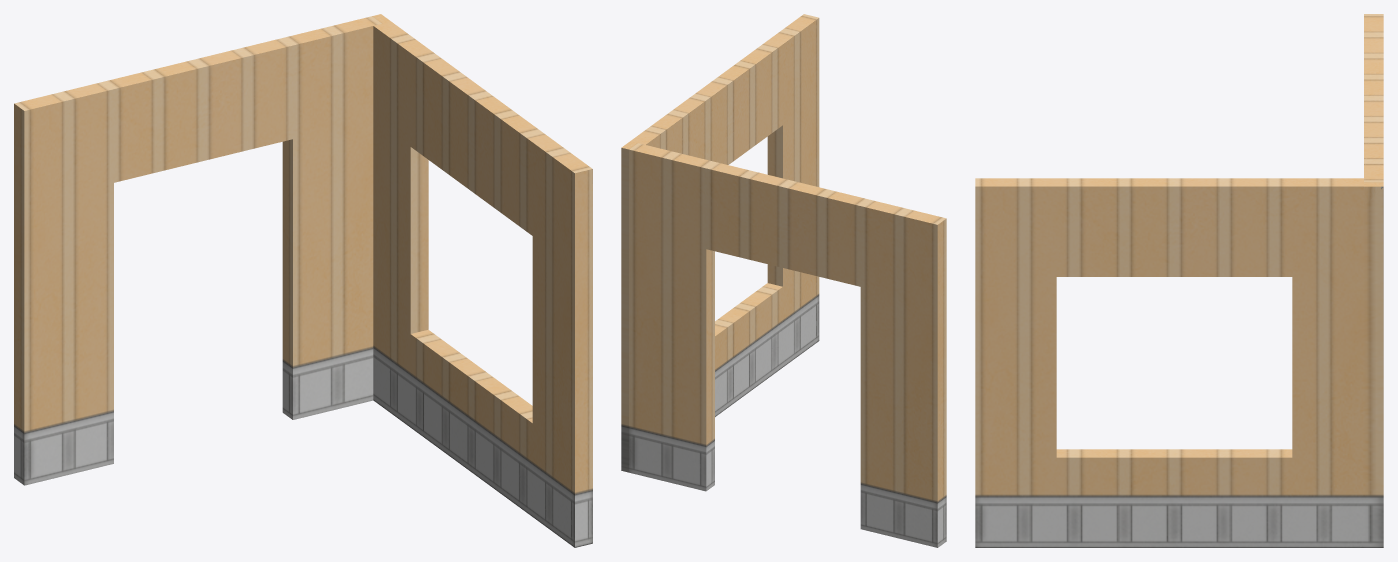
The model's file is Wall_8_Corner_E.fbx.
3 views of the same model, side by side, from view 1: azimuth 30°, elevation 25°; view 2: azimuth 150°, elevation 25°; view 3: azimuth 270°, elevation 25° (orthographic). The views are drawn at different scales.
Visible parts, largest first — view 1: polySurface62; view 2: polySurface62; view 3: polySurface62.
Boxes of the visible parts, x1,y1,x2,y2 form: polySurface62: [14, 14, 592, 547]; polySurface62: [621, 14, 946, 547]; polySurface62: [975, 14, 1383, 547].
Bounding box in the file's own units: 4.1 × 4 × 4.1.
